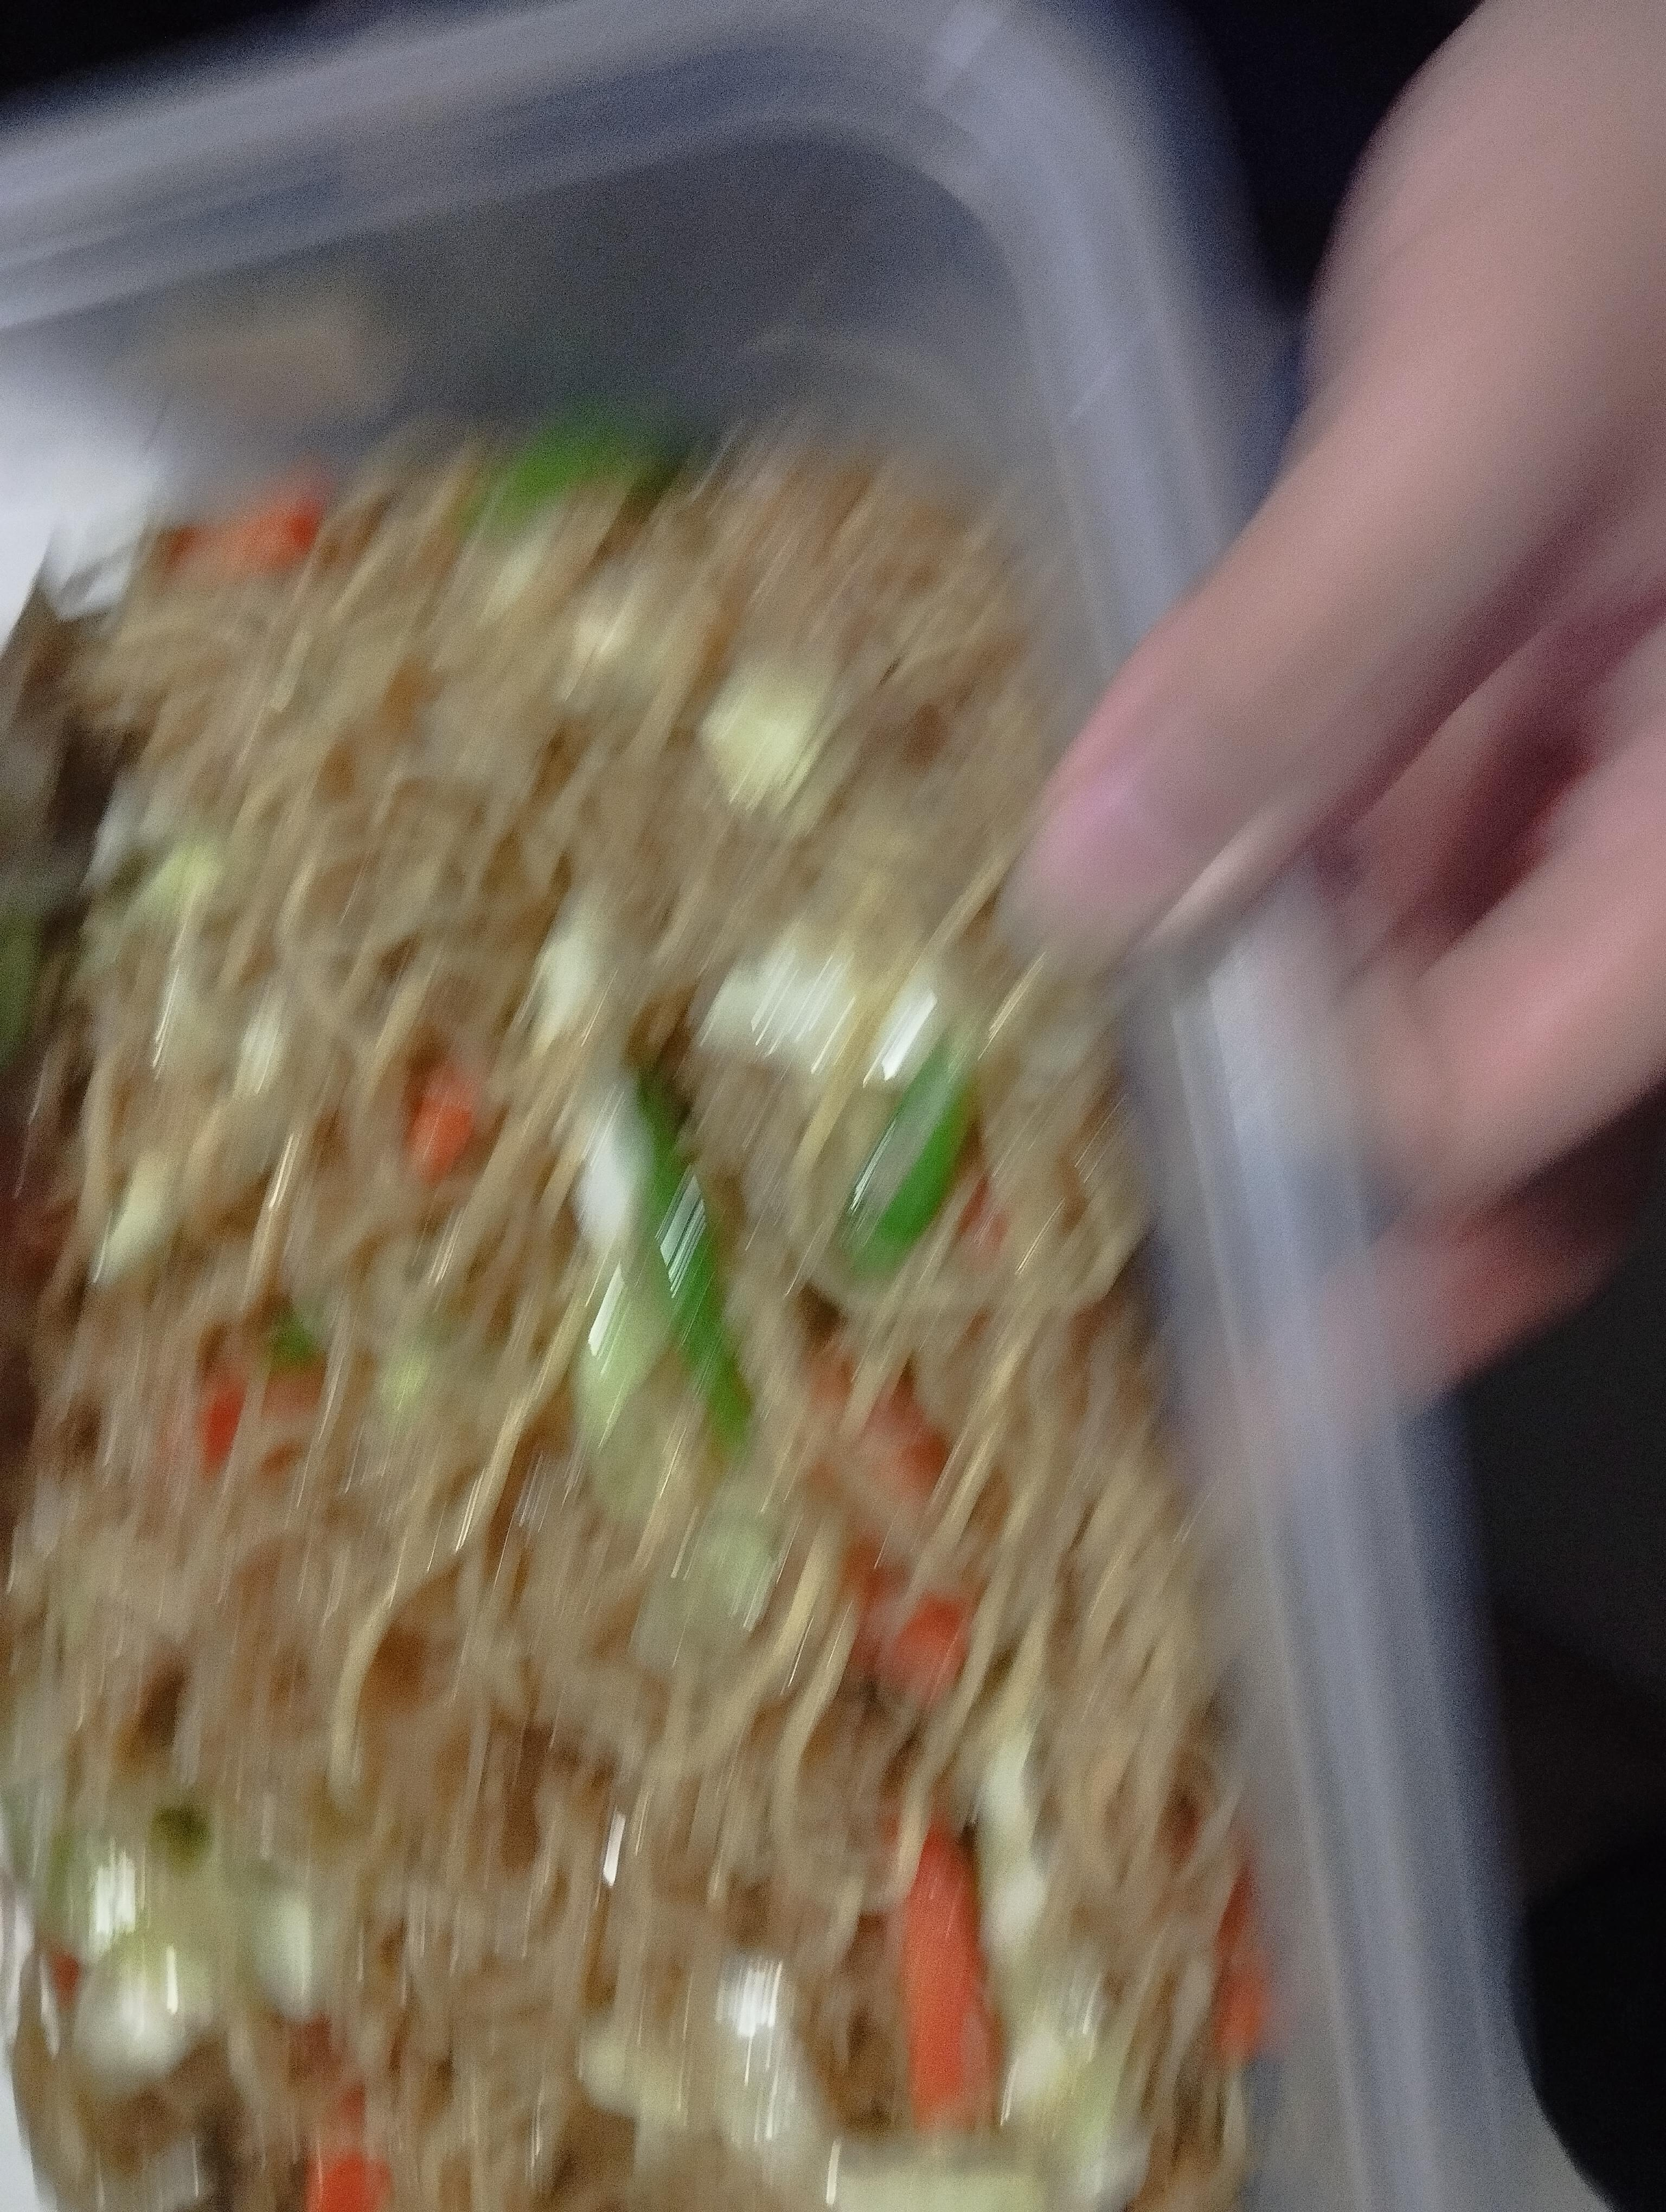pancit bihon: (0, 486, 1311, 2212)
